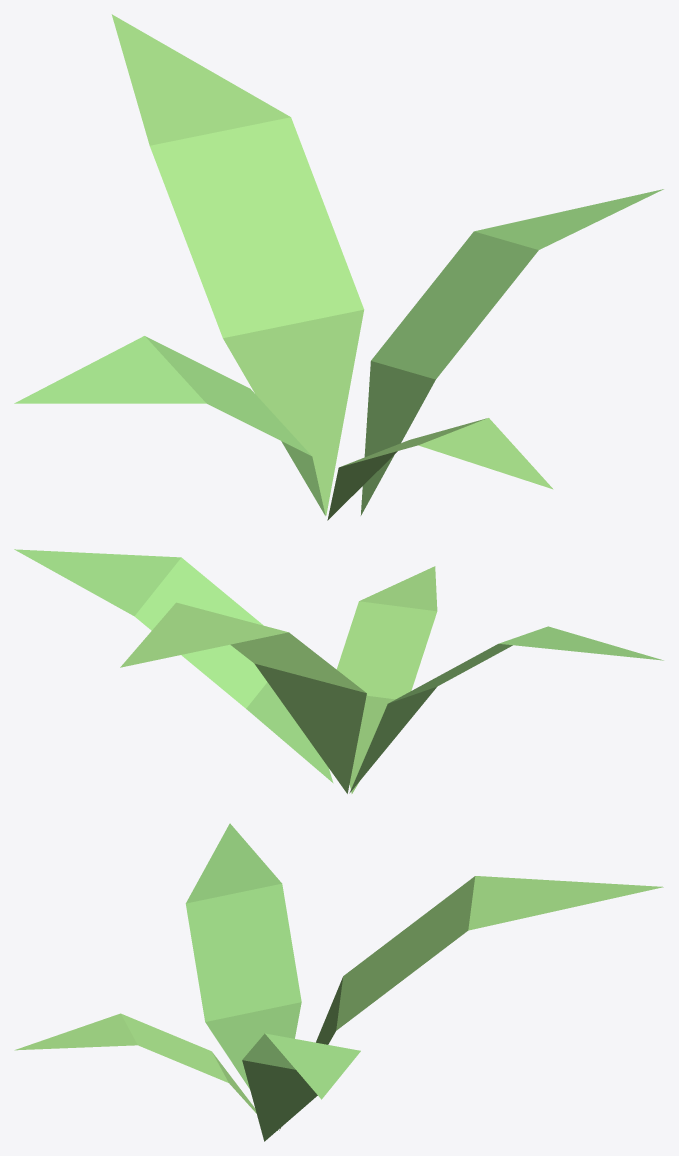
The model's file is Plant_b_OneS_05.fbx.
3 views of the same model, one above another, from view 1: azimuth 30°, elevation 25°; view 2: azimuth 150°, elevation 25°; view 3: azimuth 270°, elevation 25° (orthographic). The views are drawn at different scales.
Parts seen in each view (by area): view 1: Plant_b_OneS_05; view 2: Plant_b_OneS_05; view 3: Plant_b_OneS_05.
Part boxes in pixels (left/top/right/bottom): Plant_b_OneS_05: left=14, top=14, right=663, bottom=520; Plant_b_OneS_05: left=14, top=549, right=663, bottom=793; Plant_b_OneS_05: left=14, top=823, right=663, bottom=1141.
Size of the model in its own units: 92.68 by 40.14 by 92.15.
